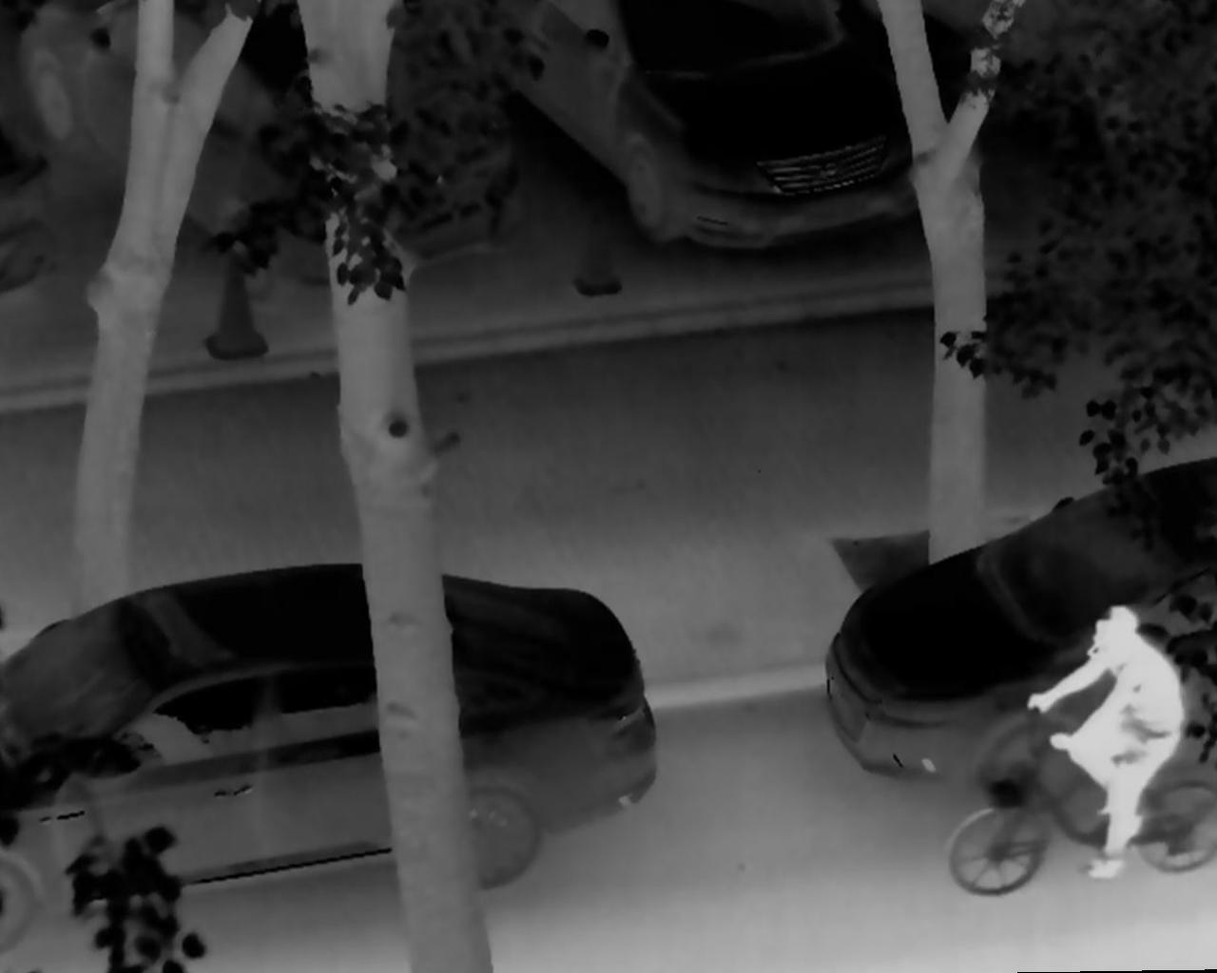person: (1024, 597, 1183, 884)
